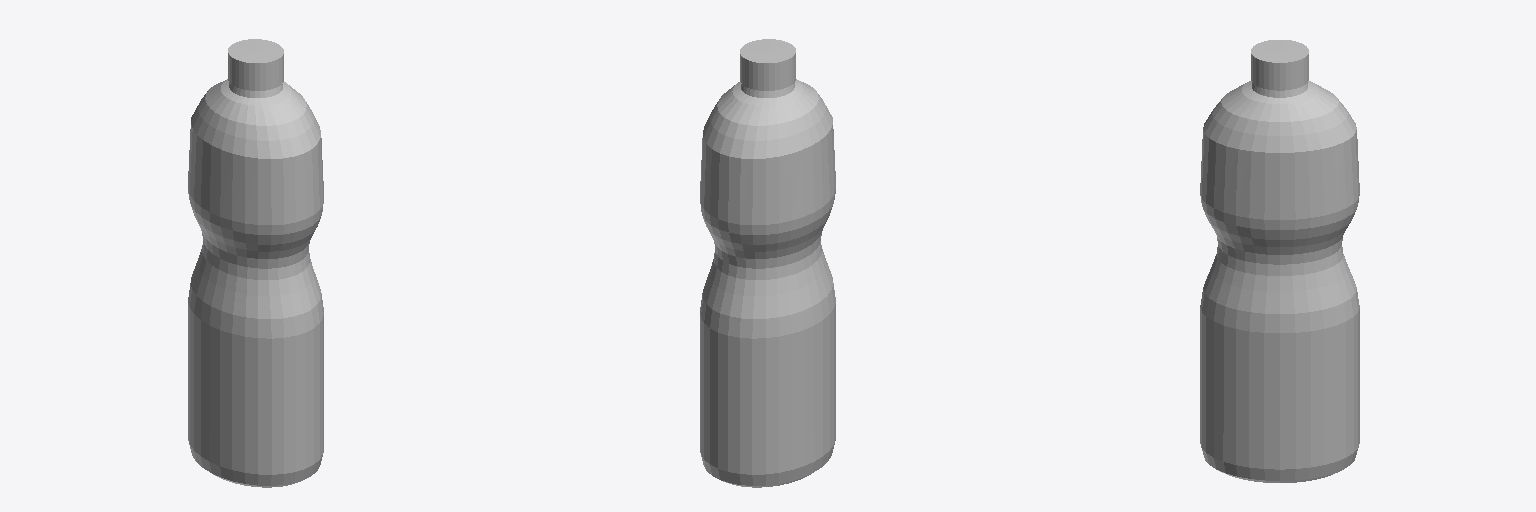
The model's file is bottle2.obj.
The picture shows the model from 3 angles: view 1: azimuth 30°, elevation 25°; view 2: azimuth 150°, elevation 25°; view 3: azimuth 270°, elevation 25°; orthographic projection.
Visible parts, largest first — view 1: bottle2; view 2: bottle2; view 3: bottle2.
Boxes of the visible parts, x1,y1,x2,y2 form: bottle2: [188, 39, 323, 487]; bottle2: [700, 39, 835, 487]; bottle2: [1200, 40, 1359, 482].
Bounding box in the file's own units: 0.1001 × 0.3538 × 0.1251.